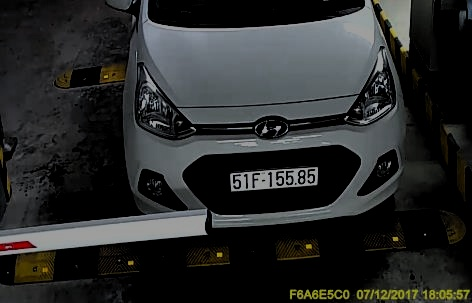plate: (228, 160, 321, 196)
